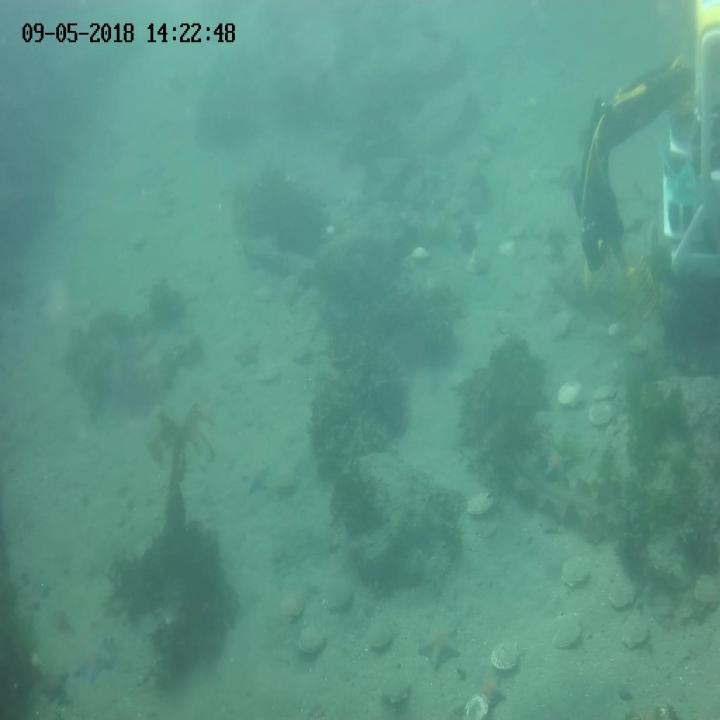scallop: (375, 668, 413, 706), (548, 610, 584, 650), (558, 550, 593, 589), (618, 612, 652, 652), (691, 570, 720, 613), (490, 635, 523, 671), (606, 579, 640, 612), (555, 377, 587, 411), (321, 582, 354, 613), (463, 488, 498, 517), (546, 308, 572, 344), (278, 592, 306, 625), (296, 626, 326, 656), (366, 623, 395, 652), (463, 688, 489, 720), (270, 471, 303, 496), (588, 400, 619, 426), (256, 360, 283, 384), (626, 335, 650, 356), (411, 245, 434, 263), (497, 236, 515, 258)
starfish: (71, 634, 120, 686), (417, 624, 464, 671), (539, 444, 578, 486), (38, 668, 72, 716), (476, 672, 510, 710), (239, 459, 268, 497), (231, 339, 261, 370)
